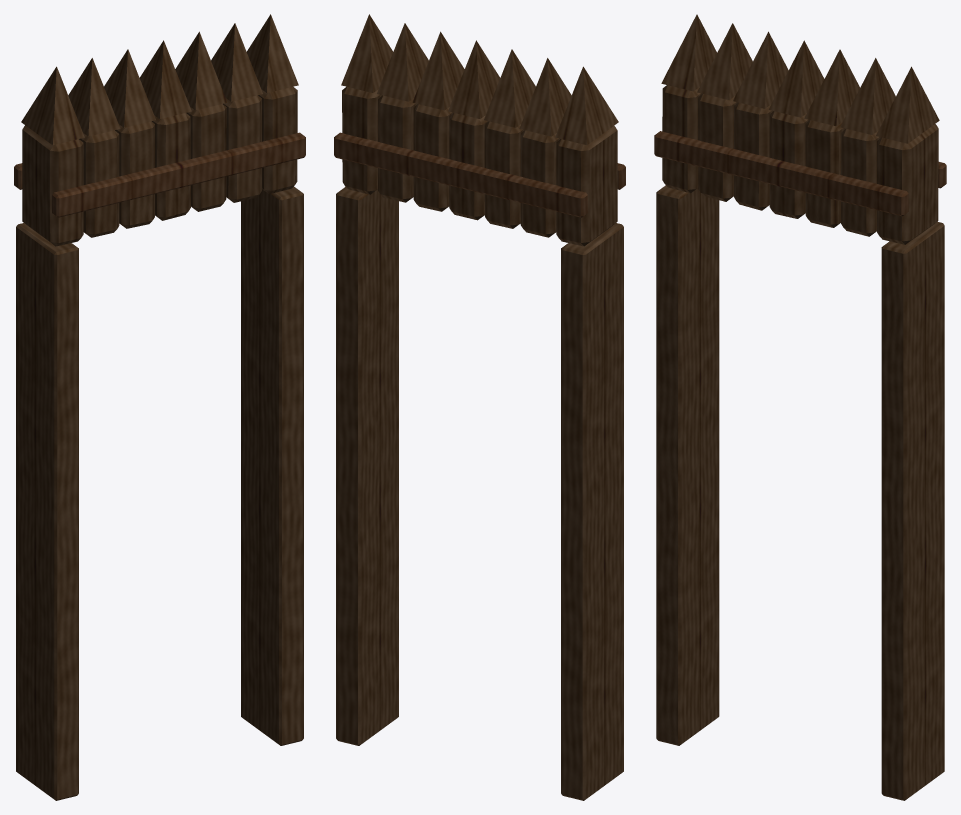
Rendered from doorframe_palisade.glb.
The picture shows the model from 3 angles, left to right: view 1: azimuth 30°, elevation 25°; view 2: azimuth 150°, elevation 25°; view 3: azimuth 330°, elevation 25°; orthographic projection.
Visible parts, largest first — view 1: doorframe_palisade; view 2: doorframe_palisade; view 3: doorframe_palisade.
Part boxes in pixels (x1,y1,x2,y2): doorframe_palisade: (14,14,305,800); doorframe_palisade: (334,14,625,800); doorframe_palisade: (654,14,946,800).
Bounding box in the file's own units: 1 × 2.74 × 0.309.
Materials: 2 (2 with a texture image).
